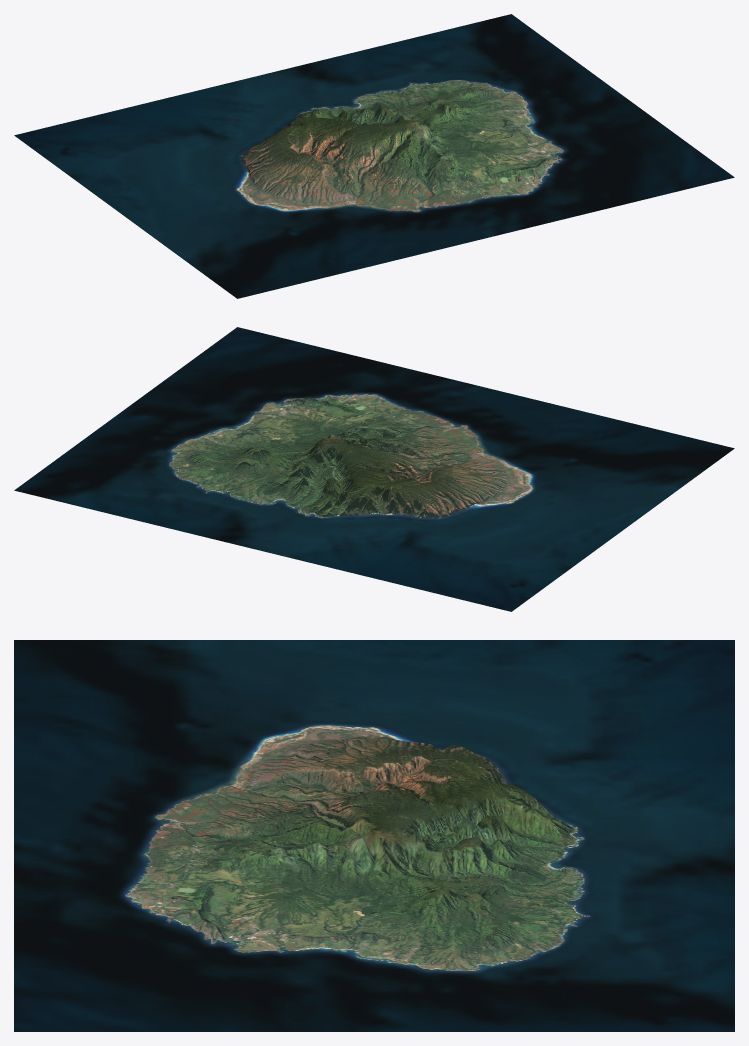
File: kauai_island_hawaii_pacific_ocean.glb
The picture shows the model from 3 angles, top to bottom: view 1: azimuth 30°, elevation 25°; view 2: azimuth 150°, elevation 25°; view 3: azimuth 270°, elevation 25°; orthographic projection. The views are drawn at different scales.
Parts seen in each view (by area): view 1: skfb_offset; view 2: skfb_offset; view 3: skfb_offset.
Boxes of the visible parts, x1,y1,x2,y2 form: skfb_offset: (14,14,734,298); skfb_offset: (14,327,734,611); skfb_offset: (14,640,734,1031).
Bounding box in the file's own units: 88055 × 3786 × 68488.
1 material, 1 textured.
